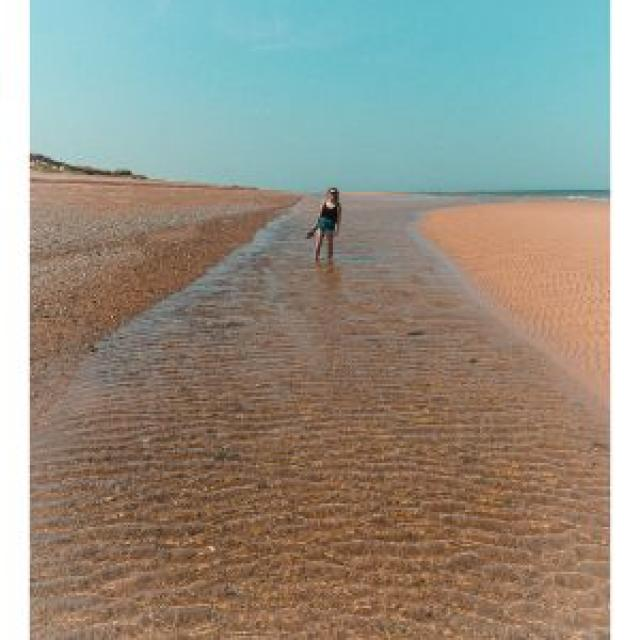nonfall: (302, 177, 352, 264)
